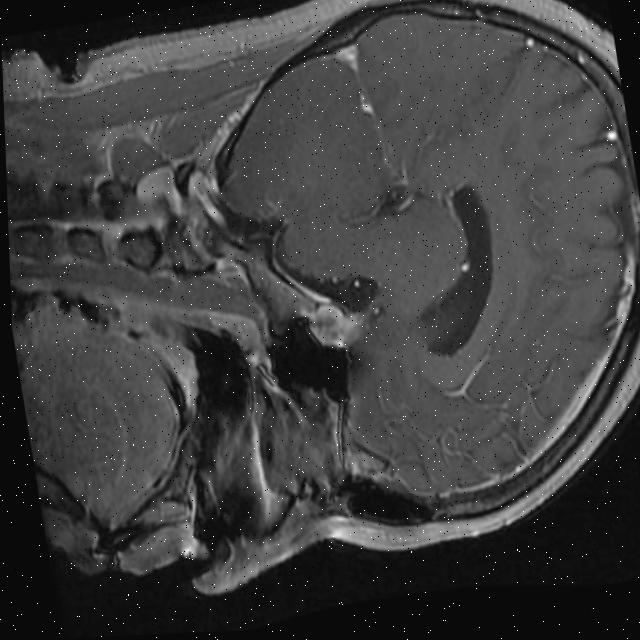Pituitary: (305, 300, 349, 352)
